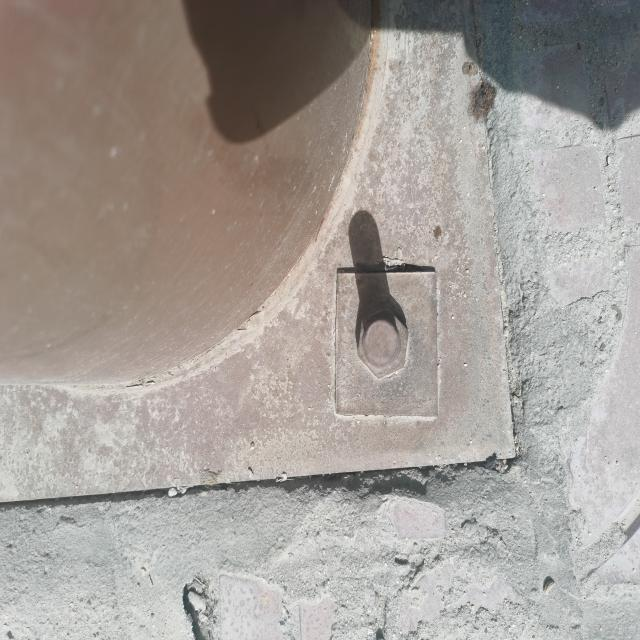bolt nut: (354, 307, 411, 381)
